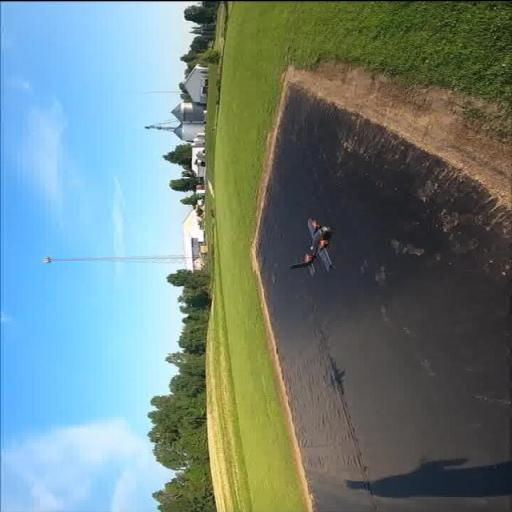uav: (286, 214, 344, 278)
